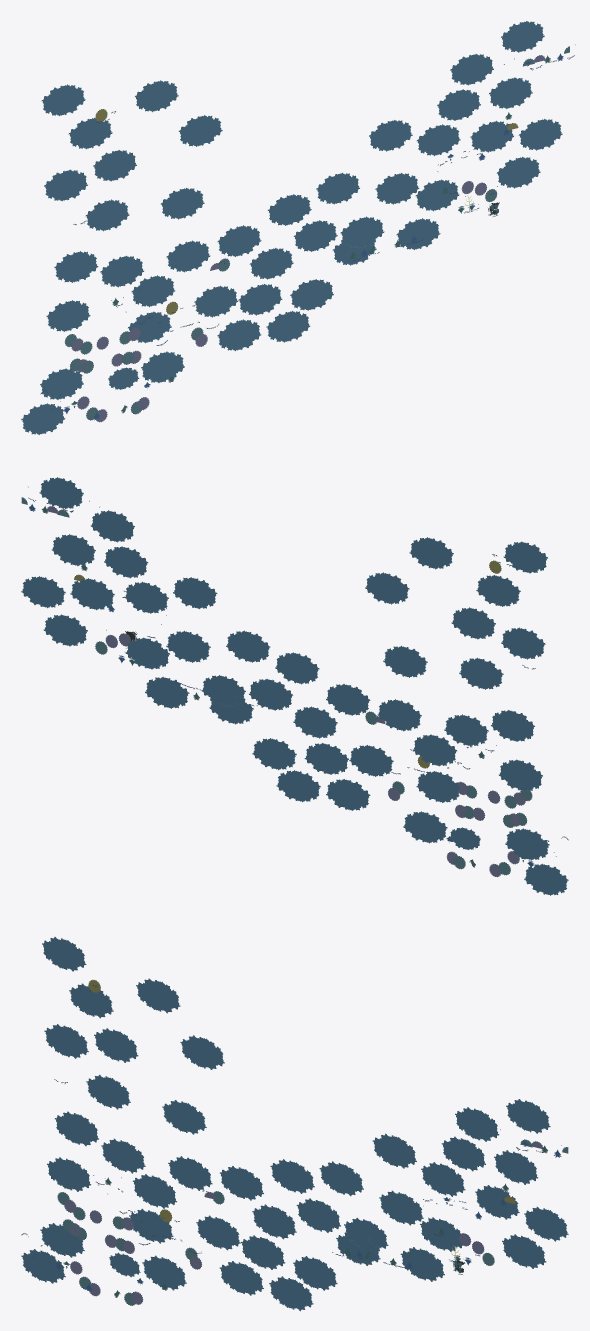
The model's file is star01_bg.glb.
The picture shows the model from 3 angles, top to bottom: view 1: azimuth 30°, elevation 25°; view 2: azimuth 150°, elevation 25°; view 3: azimuth 330°, elevation 25°; orthographic projection.
Parts seen in each view (by area): view 1: star01_bg; view 2: star01_bg; view 3: star01_bg.
Boxes of the visible parts, bbox=[...] form: star01_bg: bbox=[21, 21, 575, 434]; star01_bg: bbox=[21, 477, 568, 895]; star01_bg: bbox=[21, 936, 568, 1311].
Size of the model in its own units: 4496 by 2664 by 289.
Materials: 12 (11 with a texture image).
